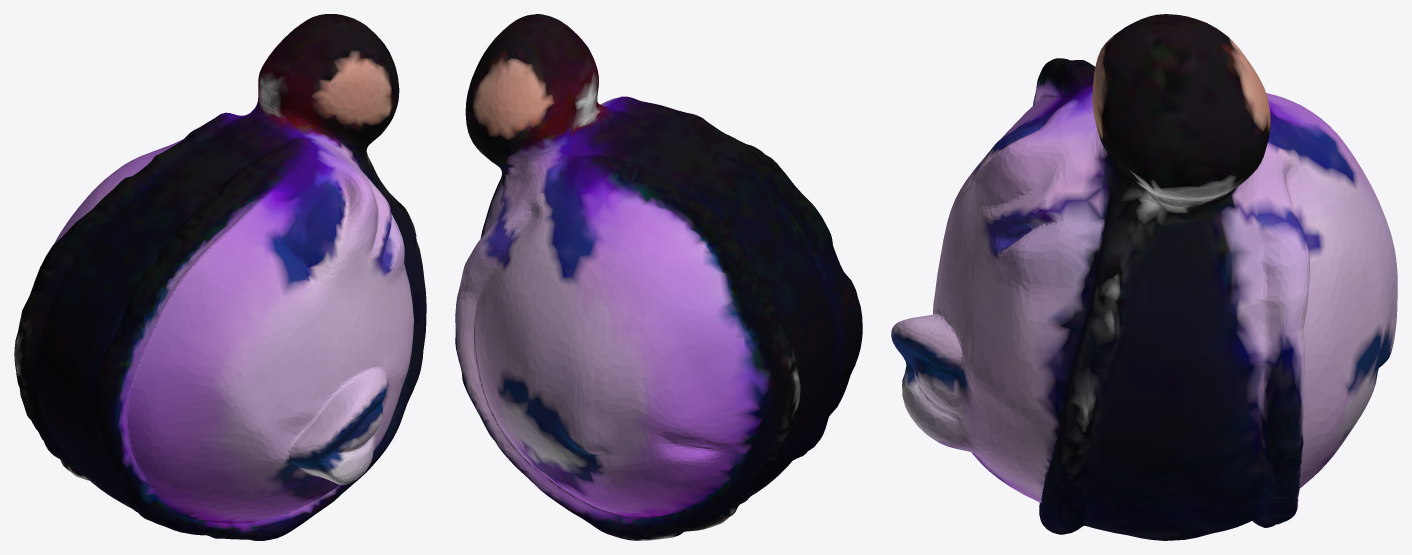
File: potioncon.glb
3 views of the same model, side by side, from view 1: azimuth 30°, elevation 25°; view 2: azimuth 150°, elevation 25°; view 3: azimuth 270°, elevation 25° (orthographic). The views are drawn at different scales.
Visible parts, largest first — view 1: geometry_0; view 2: geometry_0; view 3: geometry_0.
Part boxes in pixels (left/top/right/bottom): geometry_0: left=14, top=14, right=426, bottom=540; geometry_0: left=455, top=14, right=862, bottom=540; geometry_0: left=891, top=14, right=1397, bottom=540.
Size of the model in its own units: 0.375 by 0.4778 by 0.3778.
